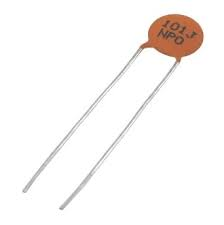ceramic capacitor: (112, 1, 218, 96)
